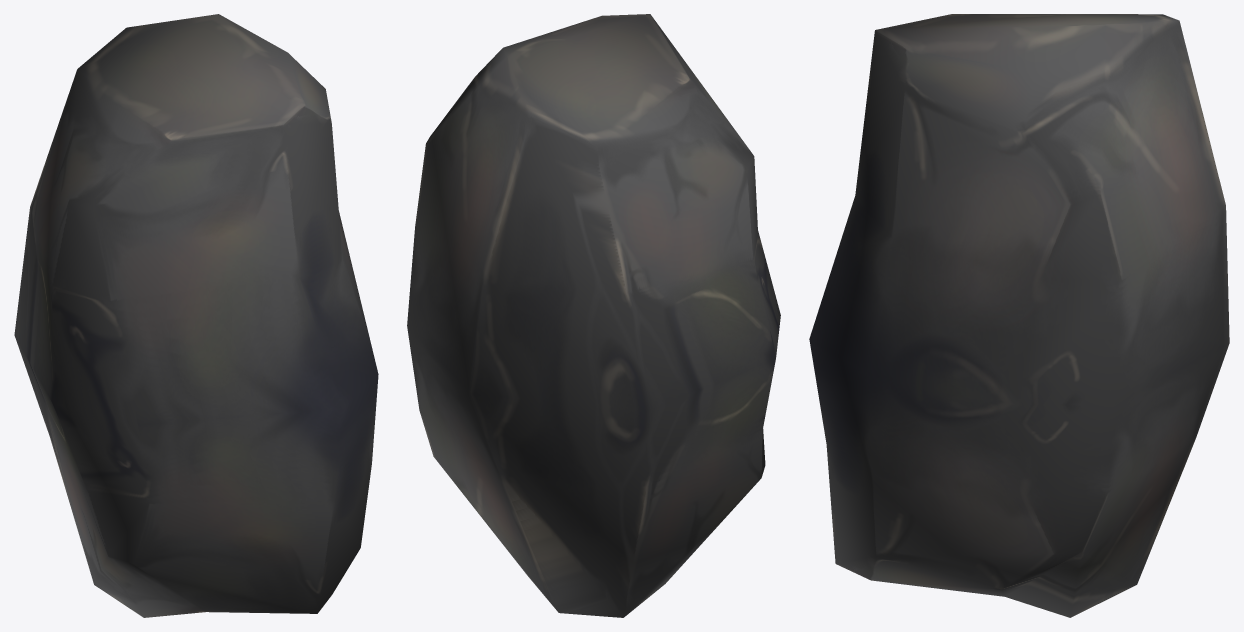
File: rock_2.gltf
3 renders of one model, left to right at view 1: azimuth 30°, elevation 25°; view 2: azimuth 150°, elevation 25°; view 3: azimuth 270°, elevation 25°, orthographic. The views are drawn at different scales.
Visible parts, largest first — view 1: Rock2; view 2: Rock2; view 3: Rock2.
Part boxes in pixels (left/top/right/bottom): Rock2: left=14, top=14, right=378, bottom=617; Rock2: left=407, top=14, right=780, bottom=617; Rock2: left=809, top=14, right=1229, bottom=617.
Size of what is drawn, in the model's own units: 1.34 by 2.14 by 1.37.
Materials: 1 (1 with a texture image).
